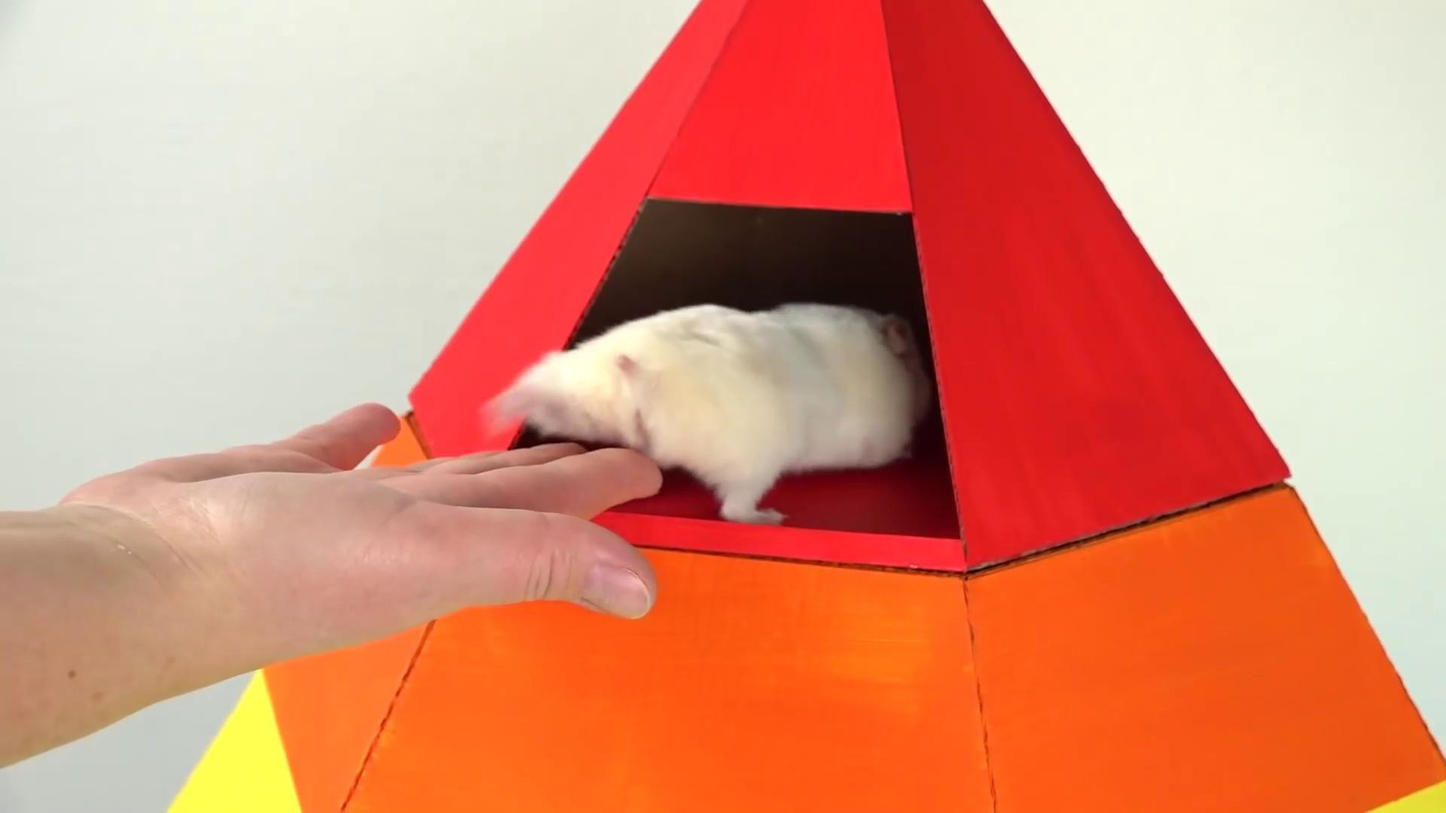rat: (490, 304, 933, 522)
